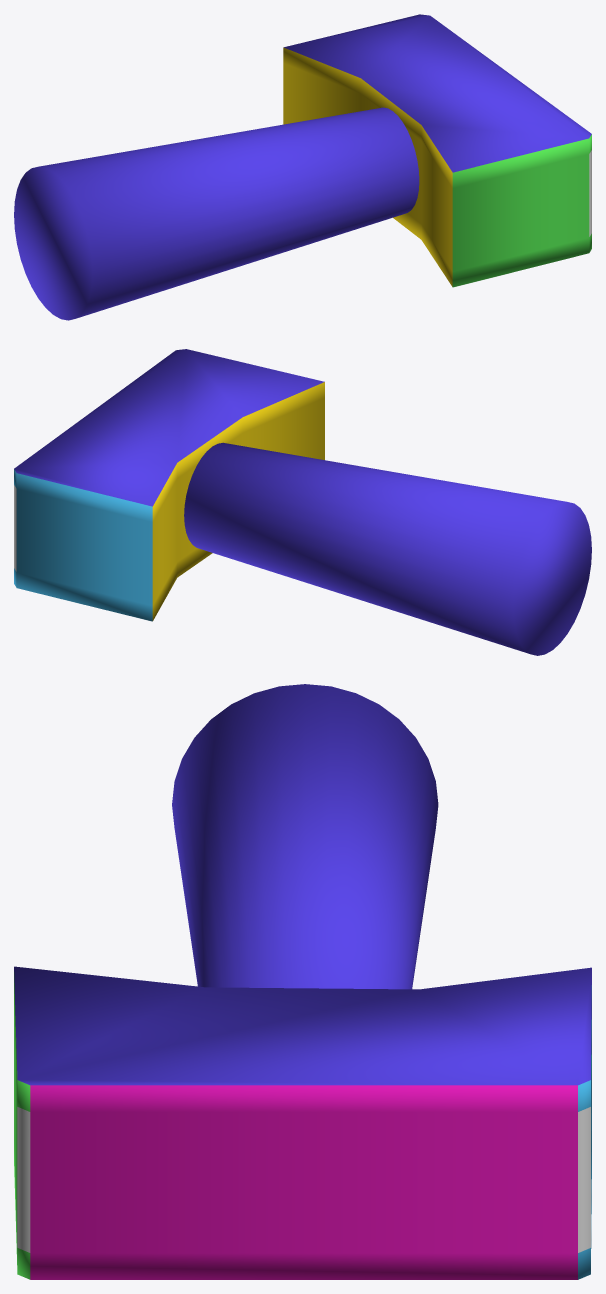
File: flower.glb
The picture shows the model from 3 angles, top to bottom: view 1: azimuth 30°, elevation 25°; view 2: azimuth 150°, elevation 25°; view 3: azimuth 270°, elevation 25°; orthographic projection. The views are drawn at different scales.
Parts seen in each view (by area): view 1: KEY; view 2: KEY; view 3: KEY.
Part boxes in pixels (bbox=[...]): KEY: bbox=[14, 14, 591, 320]; KEY: bbox=[14, 349, 591, 655]; KEY: bbox=[14, 684, 591, 1279].
Size of the model in its own units: 1.97 by 0.5878 by 1.27.
